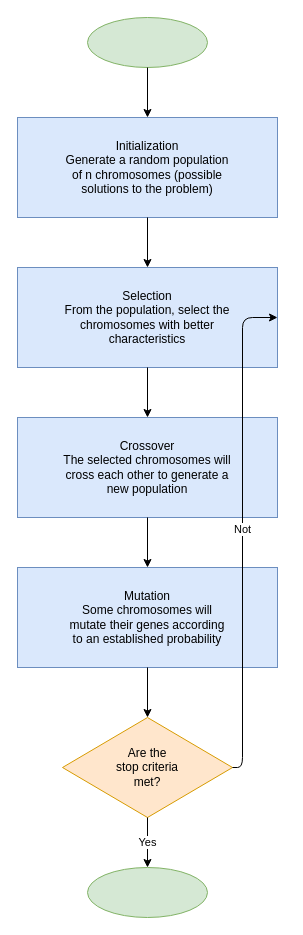
The diagram is 303 pixels wide and 935 high, and some of its shapes have lost their labels. The centre of each missing label's shape, as x and y in pixels:
"End" belongs at (x=147, y=892).
"Start" belongs at (x=147, y=42).
